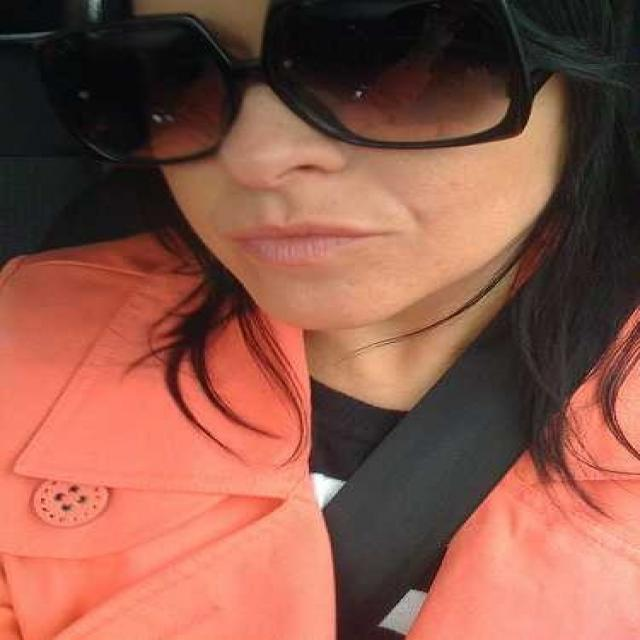seatbelt: (328, 200, 634, 578)
